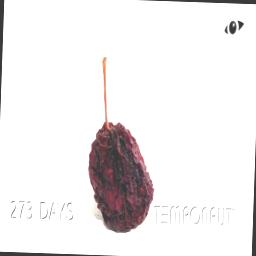Apple Rotten: (72, 15, 182, 238)
